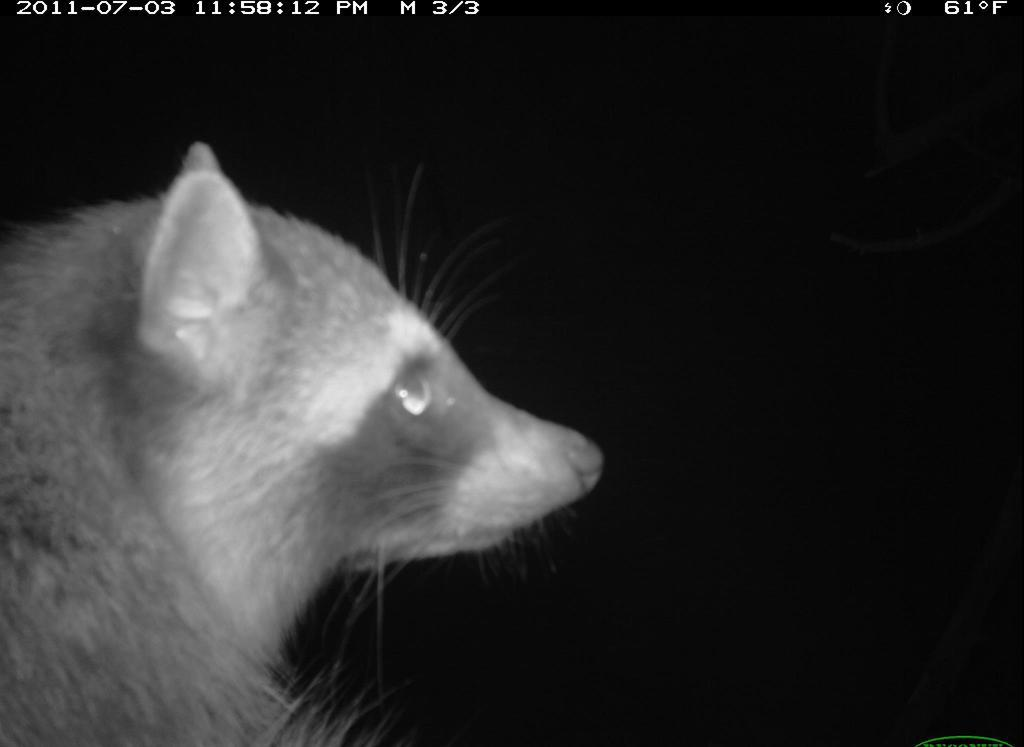raccoon: (3, 131, 621, 747)
